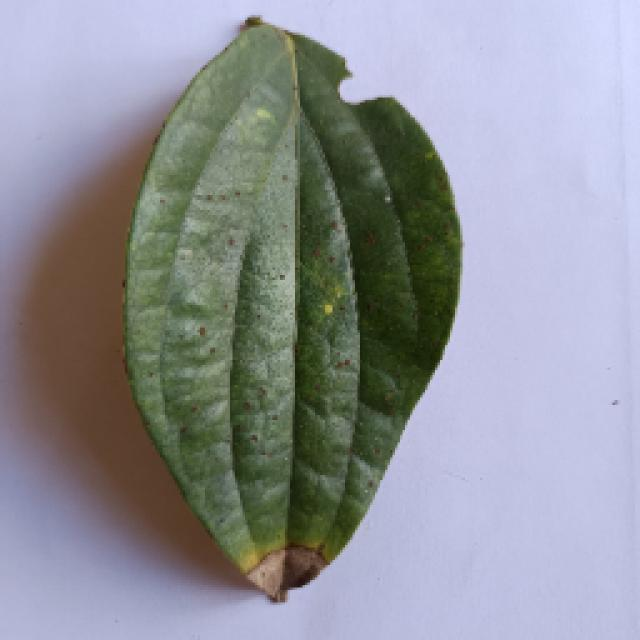footrot: (117, 18, 465, 600)
